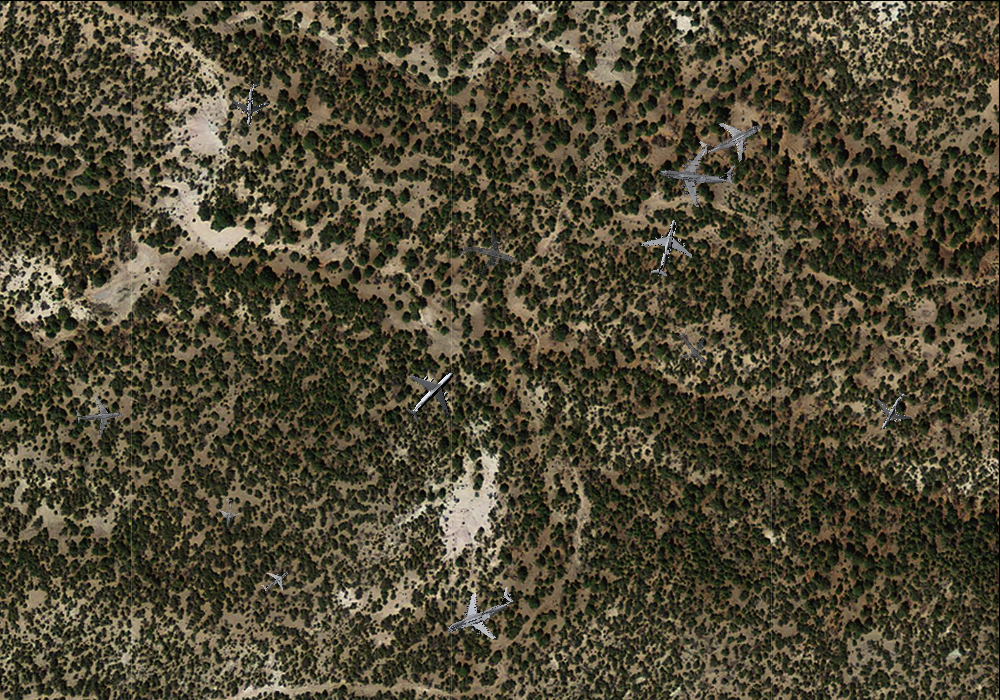plane: (433, 569, 526, 657), (389, 352, 474, 437), (655, 134, 739, 213), (690, 98, 772, 177), (632, 212, 701, 282), (454, 222, 522, 287), (665, 320, 721, 376), (866, 382, 921, 439), (73, 390, 124, 440), (228, 81, 273, 127), (254, 560, 295, 601), (212, 496, 243, 529)
